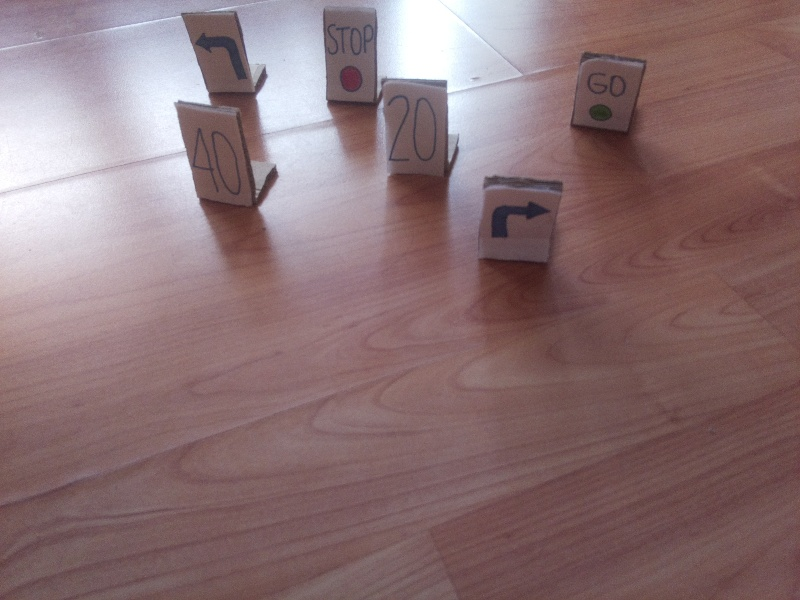20: (386, 90, 438, 164)
40: (189, 124, 246, 196)
go: (584, 67, 628, 122)
stop: (325, 19, 374, 93)
turn left: (190, 28, 251, 82)
turn right: (489, 196, 553, 242)
